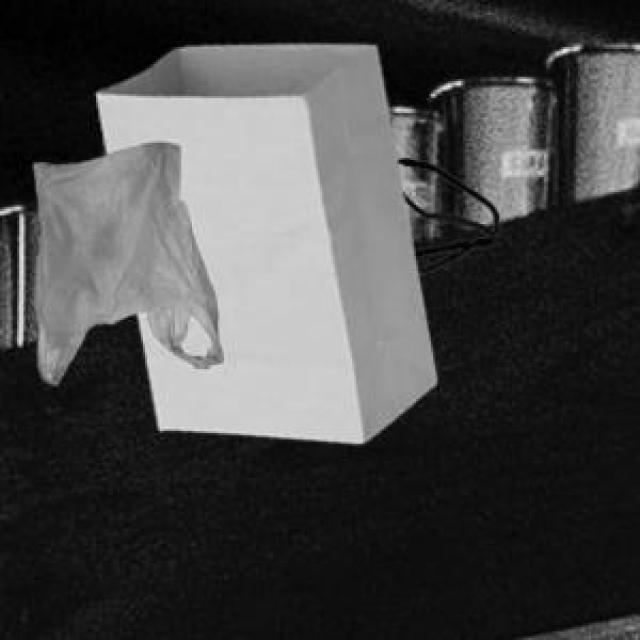paper: (92, 41, 433, 440), (113, 154, 495, 318)
